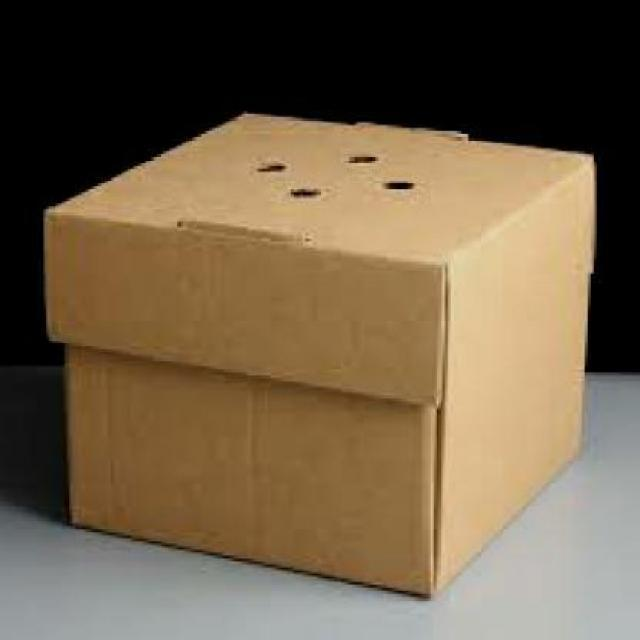box: (29, 95, 602, 620)
